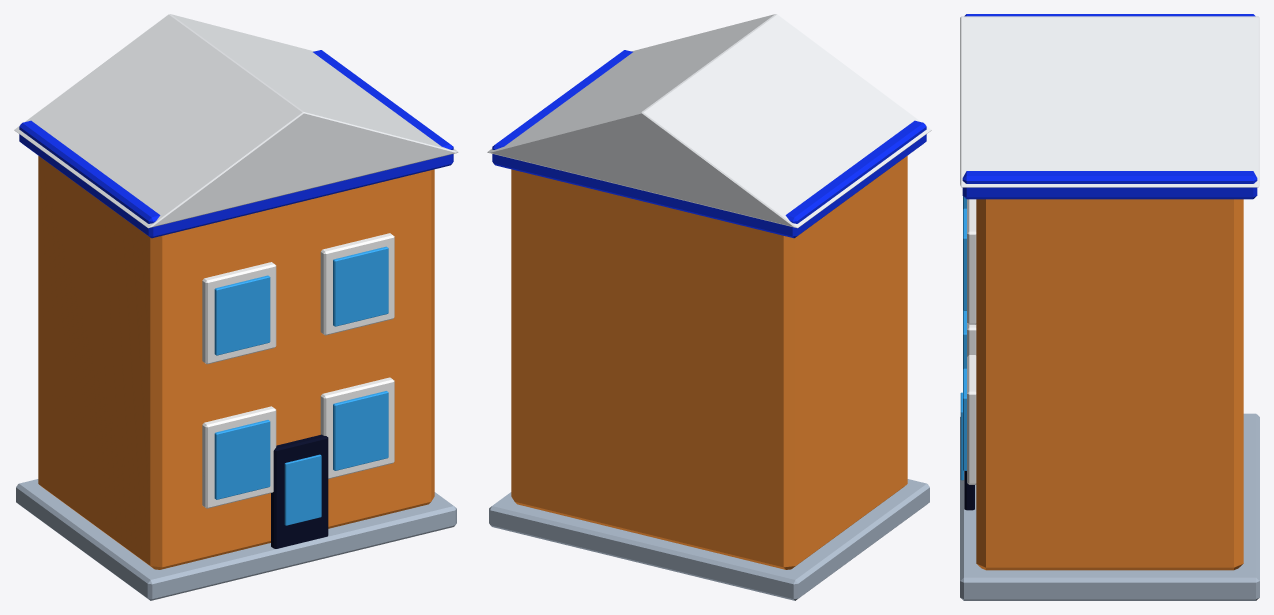
File: ENV_streets_house__v001__model.fbx
3 renders of one model, left to right at view 1: azimuth 30°, elevation 25°; view 2: azimuth 150°, elevation 25°; view 3: azimuth 270°, elevation 25°, orthographic. The views are drawn at different scales.
Visible parts, largest first — view 1: ENV_streets_house_Mesh; view 2: ENV_streets_house_Mesh; view 3: ENV_streets_house_Mesh.
Boxes of the visible parts, <box> form: ENV_streets_house_Mesh: <box>14,14,458,600</box>; ENV_streets_house_Mesh: <box>487,14,931,600</box>; ENV_streets_house_Mesh: <box>960,14,1259,600</box>.
Size of the model in its own units: 3.72 by 5.17 by 2.8.
1 material, 1 textured.
